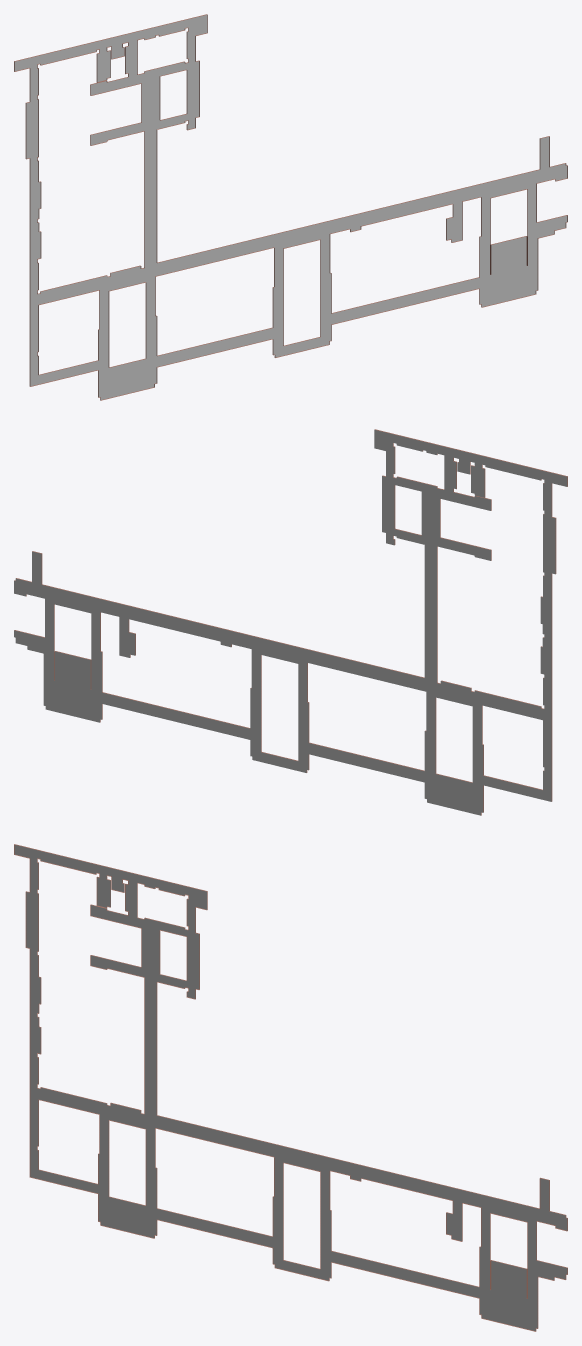
3 renders of one model, top to bottom at view 1: azimuth 30°, elevation 25°; view 2: azimuth 150°, elevation 25°; view 3: azimuth 330°, elevation 25°, orthographic.
Visible parts, largest first — view 1: floor_82, floor_83, floor_120, floor_121, floor_172, floor_173, floor_80, floor_0, floor_128, floor_81, floor_129, floor_1 (+12 smaller); view 2: floor_83, floor_82, floor_121, floor_120, floor_172, floor_173, floor_80, floor_1, floor_0, floor_128, floor_81, floor_129 (+14 smaller); view 3: floor_82, floor_83, floor_121, floor_120, floor_172, floor_173, floor_81, floor_128, floor_80, floor_0, floor_129, floor_1 (+3 smaller).
Boxes of the visible parts, left/top/right/bottom form: floor_82: left=159, top=170, right=539, bottom=275; floor_83: left=156, top=176, right=514, bottom=275; floor_120: left=30, top=70, right=36, bottom=386; floor_121: left=29, top=66, right=36, bottom=355; floor_172: left=491, top=236, right=526, bottom=304; floor_173: left=490, top=236, right=525, bottom=304; floor_80: left=144, top=130, right=156, bottom=278; floor_0: left=19, top=15, right=206, bottom=68; floor_128: left=333, top=277, right=479, bottom=323; floor_81: left=144, top=129, right=156, bottom=274; floor_129: left=330, top=280, right=468, bottom=324; floor_1: left=14, top=19, right=188, bottom=69; floor_83: left=44, top=585, right=424, bottom=691; floor_82: left=41, top=585, right=419, bottom=690; floor_121: left=544, top=481, right=551, bottom=800; floor_120: left=544, top=485, right=551, bottom=801; floor_172: left=54, top=651, right=90, bottom=720; floor_173: left=55, top=651, right=90, bottom=719; floor_80: left=424, top=546, right=436, bottom=693; floor_1: left=378, top=430, right=567, bottom=484; floor_0: left=374, top=429, right=561, bottom=483; floor_128: left=101, top=692, right=248, bottom=739; floor_81: left=424, top=545, right=436, bottom=690; floor_129: left=104, top=693, right=250, bottom=739; floor_82: left=162, top=1129, right=540, bottom=1221; floor_83: left=157, top=1116, right=517, bottom=1203; floor_121: left=30, top=858, right=37, bottom=1175; floor_120: left=30, top=878, right=37, bottom=1178; floor_172: left=491, top=1270, right=527, bottom=1328; floor_173: left=491, top=1260, right=526, bottom=1319; floor_81: left=145, top=979, right=156, bottom=1121; floor_128: left=333, top=1262, right=480, bottom=1297; floor_80: left=145, top=990, right=157, bottom=1127; floor_0: left=21, top=854, right=206, bottom=899; floor_129: left=331, top=1251, right=469, bottom=1285; floor_1: left=14, top=845, right=189, bottom=887.
Size of the model in its own units: 0.7315 by 0.4548 by 0.00152.
